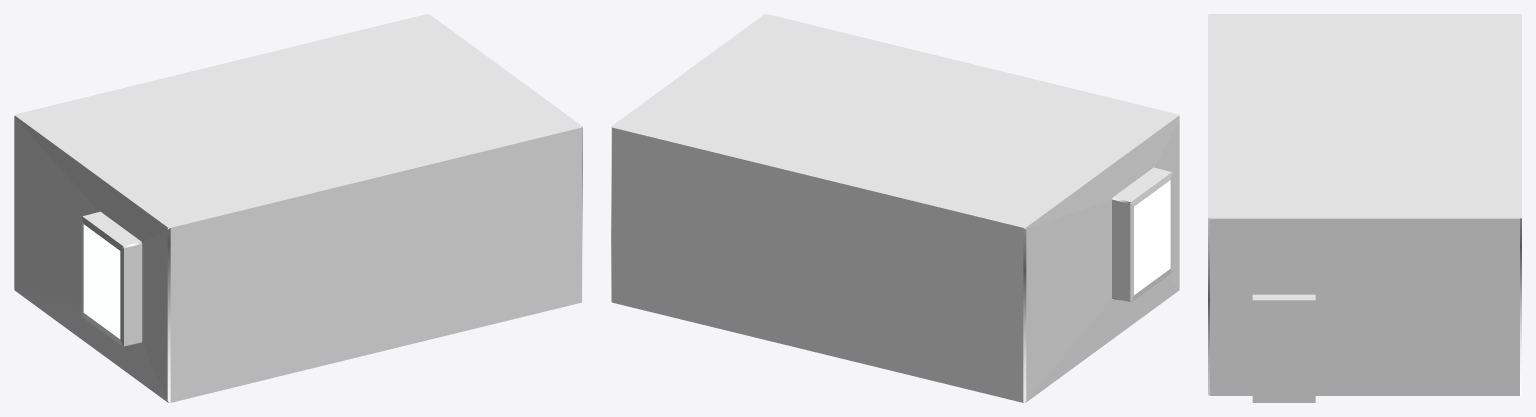
File: Lab.glb
3 views of the same model, side by side, from view 1: azimuth 30°, elevation 25°; view 2: azimuth 150°, elevation 25°; view 3: azimuth 270°, elevation 25° (orthographic).
Visible parts, largest first — view 1: Room; view 2: Room; view 3: Room, Door.
Part boxes in pixels (bbox=[...]): Room: bbox=[14, 14, 582, 402]; Room: bbox=[611, 14, 1179, 402]; Room: bbox=[1208, 14, 1521, 395]; Door: bbox=[1252, 294, 1315, 402].
Size of the model in its own units: 10.81 by 4.1 by 6.52.
